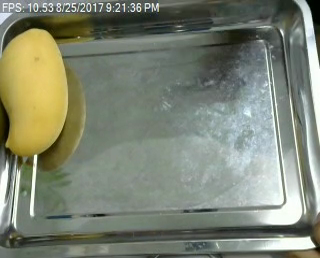Mango: (0, 26, 69, 157)
